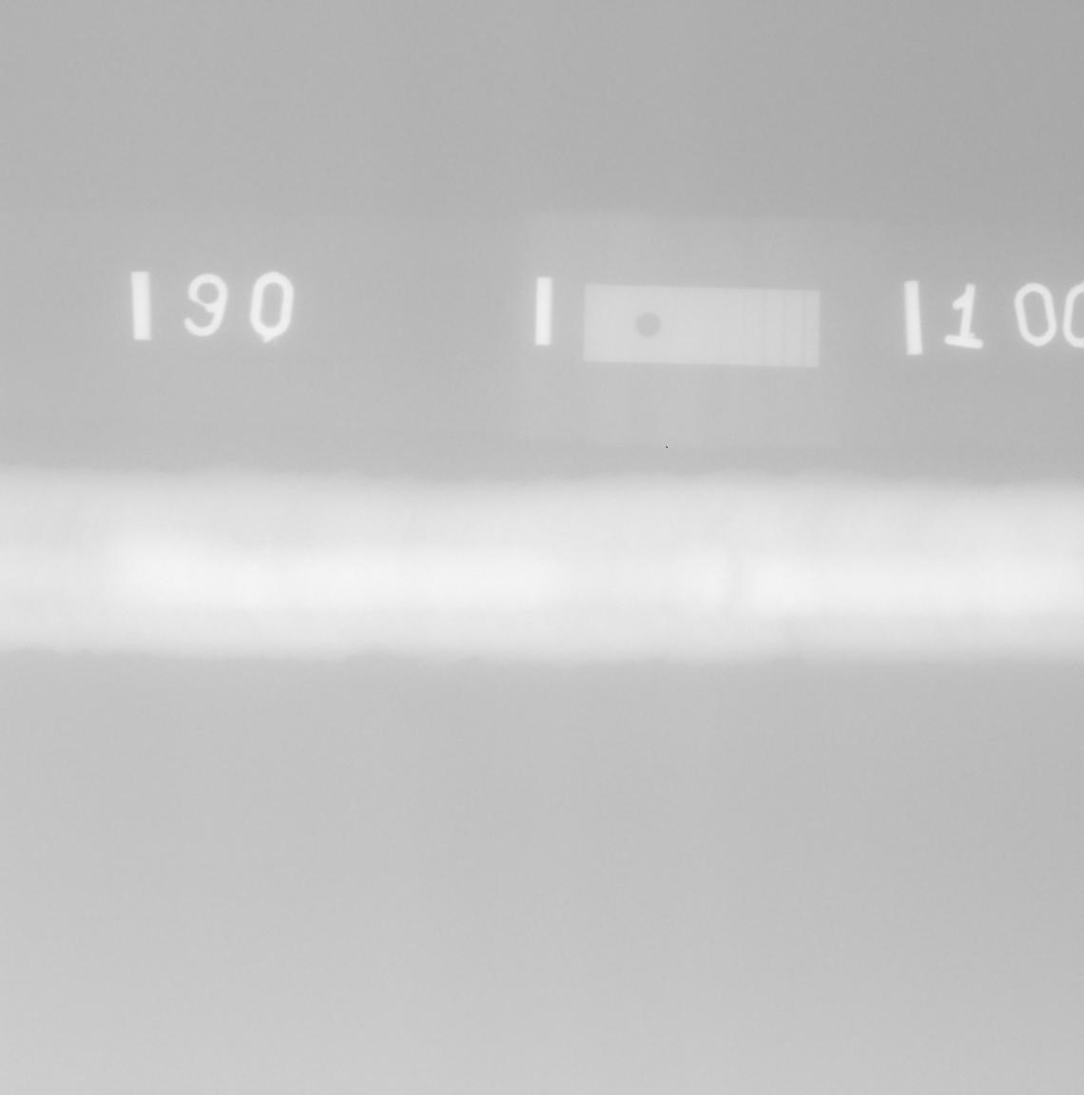Reference Standard 1: (584, 284, 821, 367)
